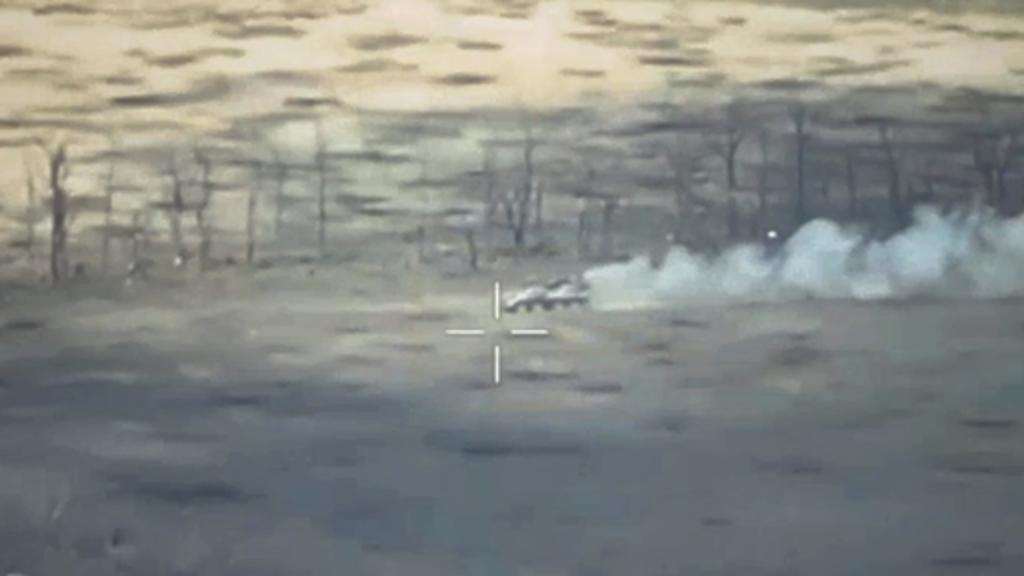APC-IFV: (496, 268, 594, 316)
